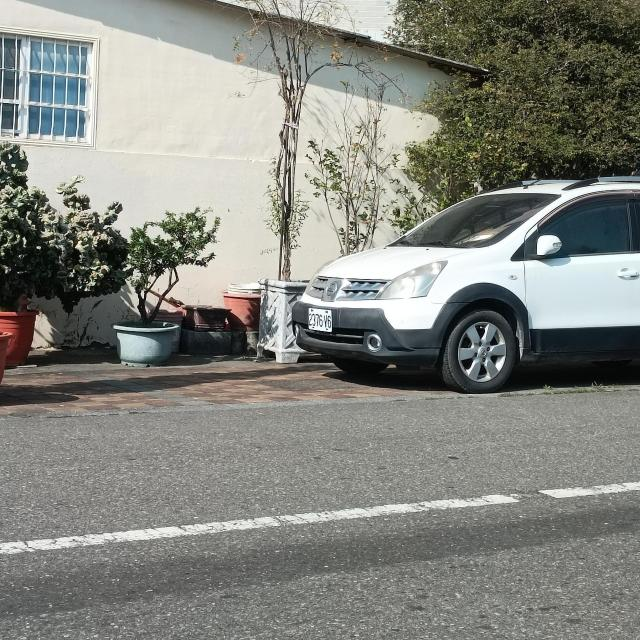W: (308, 308, 332, 332)
